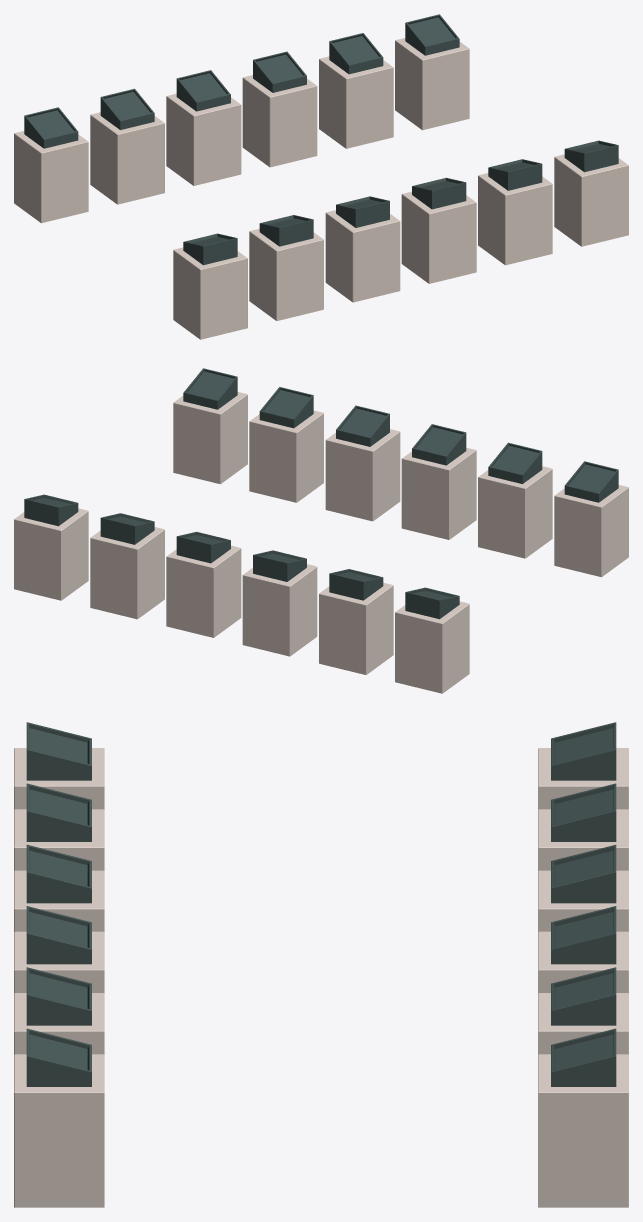
Rendered from Vitrinas.fbx.
The picture shows the model from 3 angles, top to bottom: view 1: azimuth 30°, elevation 25°; view 2: azimuth 150°, elevation 25°; view 3: azimuth 270°, elevation 25°; orthographic projection. The views are drawn at different scales.
Parts seen in each view (by area): view 1: Vitrina_Joyas.006, Vitrina_Joyas.005, Vitrina_Joyas.004, Vitrina_Joyas.012, Vitrina_Joyas.003, Vitrina_Joyas.002, Vitrina_Joyas.009, Vitrina_Joyas.010, Vitrina_Joyas.008, Vitrina_Joyas.013, Vitrina_Joyas.007, Vitrina_Joyas.011; view 2: Vitrina_Joyas.010, Vitrina_Joyas.009, Vitrina_Joyas.011, Vitrina_Joyas.007, Vitrina_Joyas.008, Vitrina_Joyas.013, Vitrina_Joyas.005, Vitrina_Joyas.006, Vitrina_Joyas.003, Vitrina_Joyas.002, Vitrina_Joyas.012, Vitrina_Joyas.004; view 3: Vitrina_Joyas.012, Vitrina_Joyas.007, Vitrina_Joyas.002, Vitrina_Joyas.008, Vitrina_Joyas.013, Vitrina_Joyas.003, Vitrina_Joyas.005, Vitrina_Joyas.004, Vitrina_Joyas.009, Vitrina_Joyas.011, Vitrina_Joyas.006, Vitrina_Joyas.010.
Boxes of the visible parts, bbox=[...] form: Vitrina_Joyas.006: bbox=[166, 70, 241, 185]; Vitrina_Joyas.005: bbox=[242, 51, 317, 167]; Vitrina_Joyas.004: bbox=[90, 88, 164, 204]; Vitrina_Joyas.012: bbox=[395, 14, 469, 130]; Vitrina_Joyas.003: bbox=[319, 33, 393, 148]; Vitrina_Joyas.002: bbox=[14, 107, 88, 223]; Vitrina_Joyas.009: bbox=[401, 177, 476, 283]; Vitrina_Joyas.010: bbox=[325, 196, 400, 302]; Vitrina_Joyas.008: bbox=[478, 159, 552, 265]; Vitrina_Joyas.013: bbox=[173, 233, 247, 339]; Vitrina_Joyas.007: bbox=[554, 140, 628, 246]; Vitrina_Joyas.011: bbox=[249, 215, 323, 320]; Vitrina_Joyas.010: bbox=[401, 424, 476, 539]; Vitrina_Joyas.009: bbox=[325, 405, 400, 521]; Vitrina_Joyas.011: bbox=[478, 442, 552, 558]; Vitrina_Joyas.007: bbox=[173, 368, 247, 484]; Vitrina_Joyas.008: bbox=[249, 387, 323, 502]; Vitrina_Joyas.013: bbox=[554, 461, 628, 577]; Vitrina_Joyas.005: bbox=[166, 531, 241, 637]; Vitrina_Joyas.006: bbox=[242, 550, 317, 656]; Vitrina_Joyas.003: bbox=[90, 513, 164, 619]; Vitrina_Joyas.002: bbox=[395, 587, 469, 693]; Vitrina_Joyas.012: bbox=[14, 494, 88, 600]; Vitrina_Joyas.004: bbox=[319, 569, 393, 674]; Vitrina_Joyas.012: bbox=[538, 1028, 628, 1207]; Vitrina_Joyas.007: bbox=[14, 1028, 104, 1207]; Vitrina_Joyas.002: bbox=[538, 722, 628, 809]; Vitrina_Joyas.008: bbox=[14, 967, 104, 1054]; Vitrina_Joyas.013: bbox=[14, 722, 104, 809]; Vitrina_Joyas.003: bbox=[538, 967, 628, 1054]; Vitrina_Joyas.005: bbox=[538, 906, 628, 993]; Vitrina_Joyas.004: bbox=[538, 783, 628, 870]; Vitrina_Joyas.009: bbox=[14, 906, 104, 993]; Vitrina_Joyas.011: bbox=[14, 783, 104, 870]; Vitrina_Joyas.006: bbox=[538, 844, 628, 931]; Vitrina_Joyas.010: bbox=[14, 844, 104, 931].
Size of the model in its own units: 5751 by 1140 by 4337.
